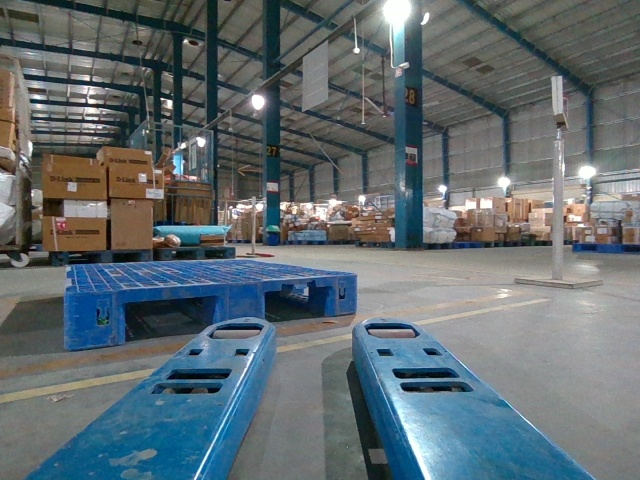block: (66, 289, 128, 348), (218, 282, 265, 322), (328, 272, 359, 314)
front: (65, 273, 357, 348)
hole pallet: (126, 296, 214, 338), (266, 286, 331, 322)
